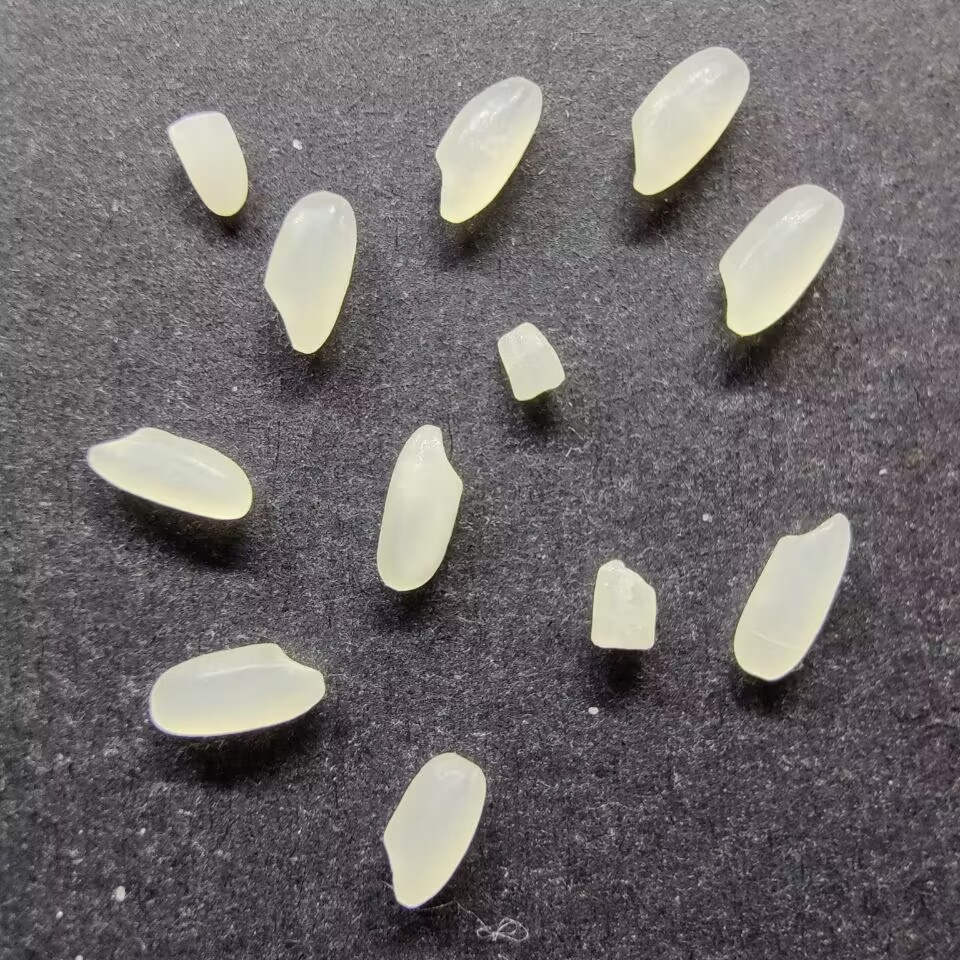broken: (165, 109, 251, 217), (589, 557, 659, 651), (494, 320, 566, 402)
rice: (733, 512, 854, 681), (715, 184, 844, 336), (629, 45, 752, 196), (378, 750, 488, 908), (149, 642, 327, 738), (434, 74, 543, 226), (86, 425, 253, 522), (261, 189, 357, 355), (374, 423, 464, 591)
